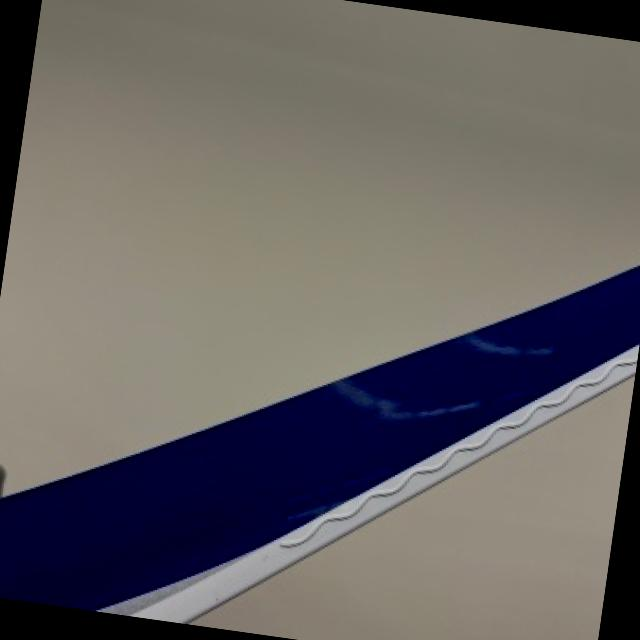healthy: (0, 266, 640, 621), (191, 377, 633, 640)
